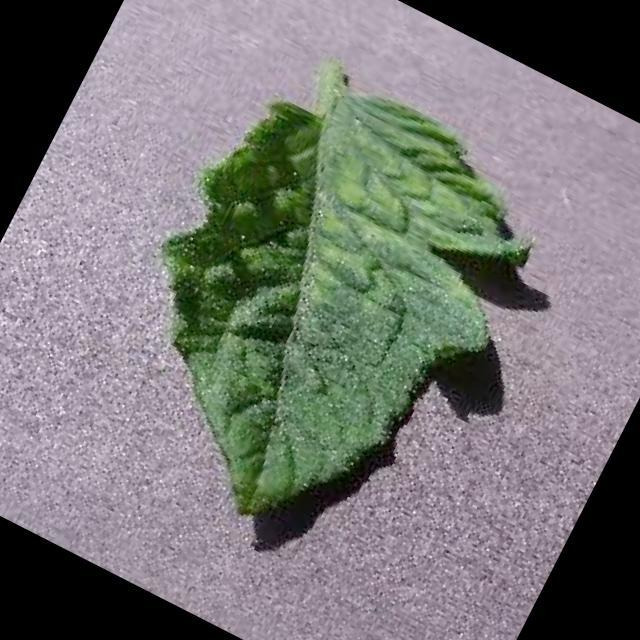Tomato mosaic virus leaf: (66, 35, 572, 584)
